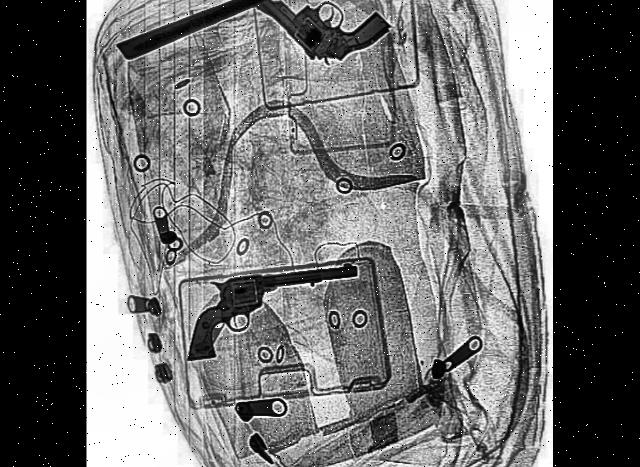Gun: (185, 264, 362, 362), (255, 0, 392, 105)
Knife: (116, 0, 428, 69)
